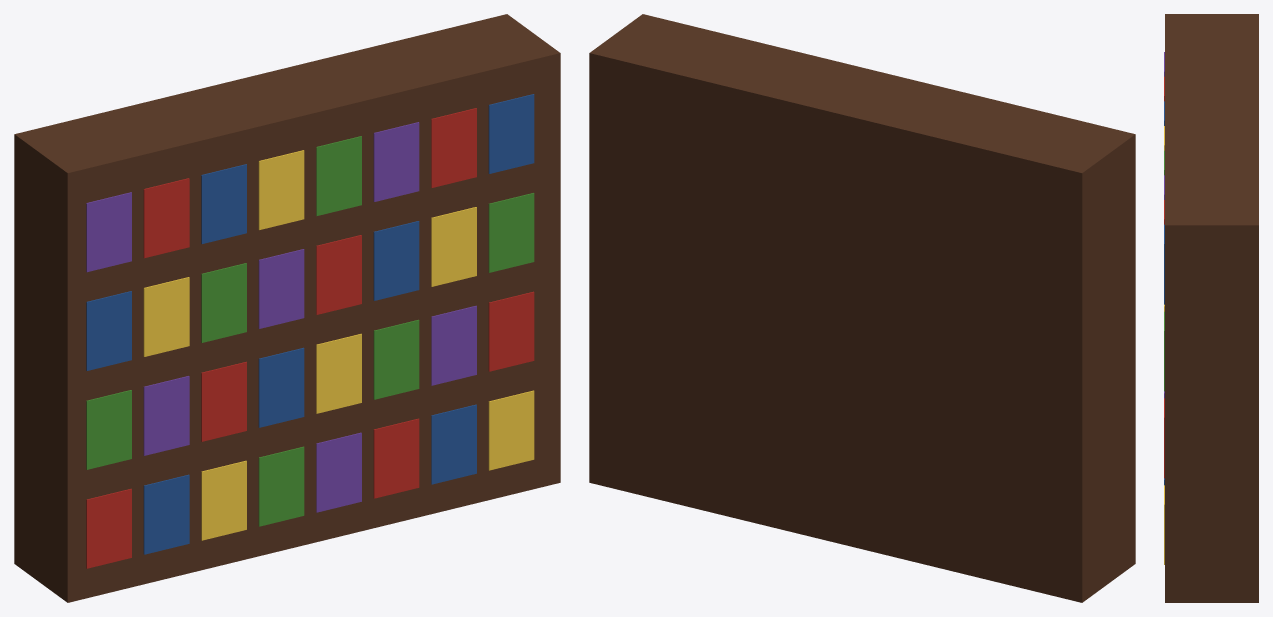
File: elem_bookshelf_1.glb
3 renders of one model, left to right at view 1: azimuth 30°, elevation 25°; view 2: azimuth 150°, elevation 25°; view 3: azimuth 270°, elevation 25°, orthographic. The views are drawn at different scales.
Visible parts, largest first — view 1: Box1, Box27, Box7, Box9, Box11, Box13, Box15, Box19, Box21, Box23, Box25, Box31 (+21 smaller); view 2: Box1; view 3: Box1.
Boxes of the visible parts, left/top/right/bottom form: Box1: left=14, top=14, right=560, bottom=602; Box27: left=143, top=178, right=189, bottom=258; Box7: left=373, top=418, right=419, bottom=498; Box9: left=488, top=390, right=534, bottom=470; Box11: left=143, top=376, right=189, bottom=455; Box13: left=258, top=347, right=304, bottom=427; Box15: left=373, top=319, right=419, bottom=399; Box19: left=143, top=277, right=189, bottom=356; Box21: left=258, top=249, right=304, bottom=328; Box23: left=373, top=221, right=419, bottom=300; Box25: left=488, top=193, right=534, bottom=272; Box31: left=373, top=122, right=419, bottom=201; Box1: left=589, top=14, right=1135, bottom=602; Box1: left=1165, top=14, right=1258, bottom=602.
Bounding box in the file's own units: 2.4 × 2 × 0.455.
